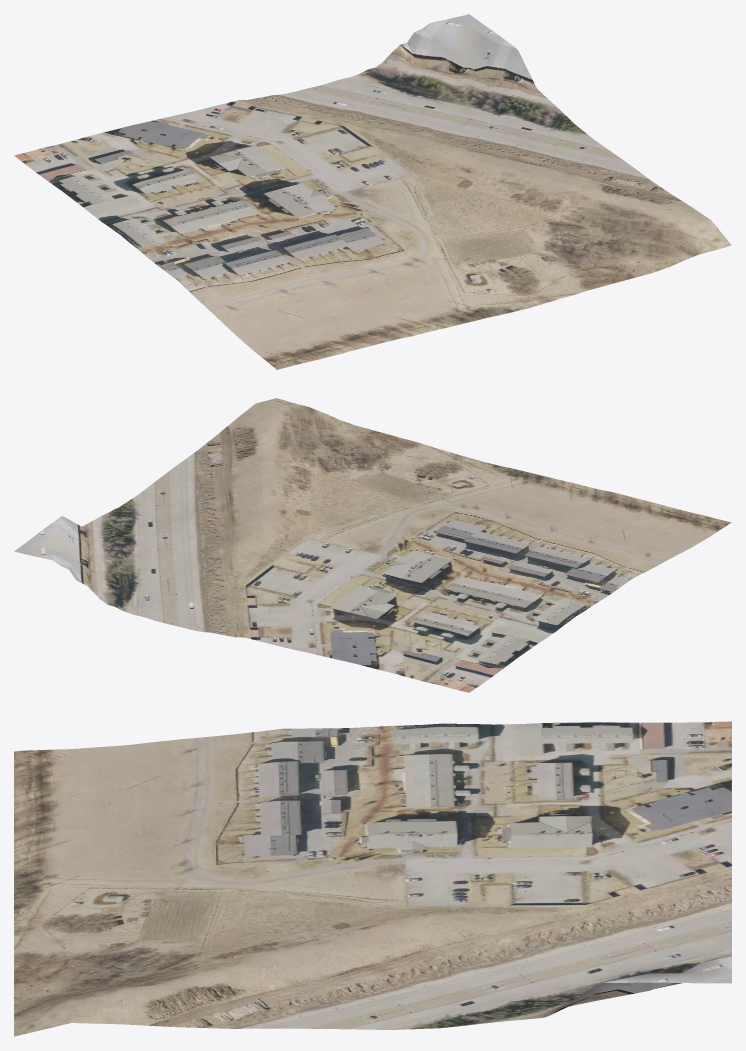
The model's file is CM_Terrain_24491073_6818360.fbx.
3 views of the same model, one above another, from view 1: azimuth 30°, elevation 25°; view 2: azimuth 150°, elevation 25°; view 3: azimuth 270°, elevation 25° (orthographic). The views are drawn at different scales.
Visible parts, largest first — view 1: CM_Terrain_24491073_6818360_LOD0; view 2: CM_Terrain_24491073_6818360_LOD0; view 3: CM_Terrain_24491073_6818360_LOD0.
Boxes of the visible parts, bbox=[...] form: CM_Terrain_24491073_6818360_LOD0: bbox=[14, 14, 731, 369]; CM_Terrain_24491073_6818360_LOD0: bbox=[14, 398, 731, 692]; CM_Terrain_24491073_6818360_LOD0: bbox=[14, 721, 731, 1036].
Size of what is drawn, in the model's own units: 205 by 22.8 by 205.
